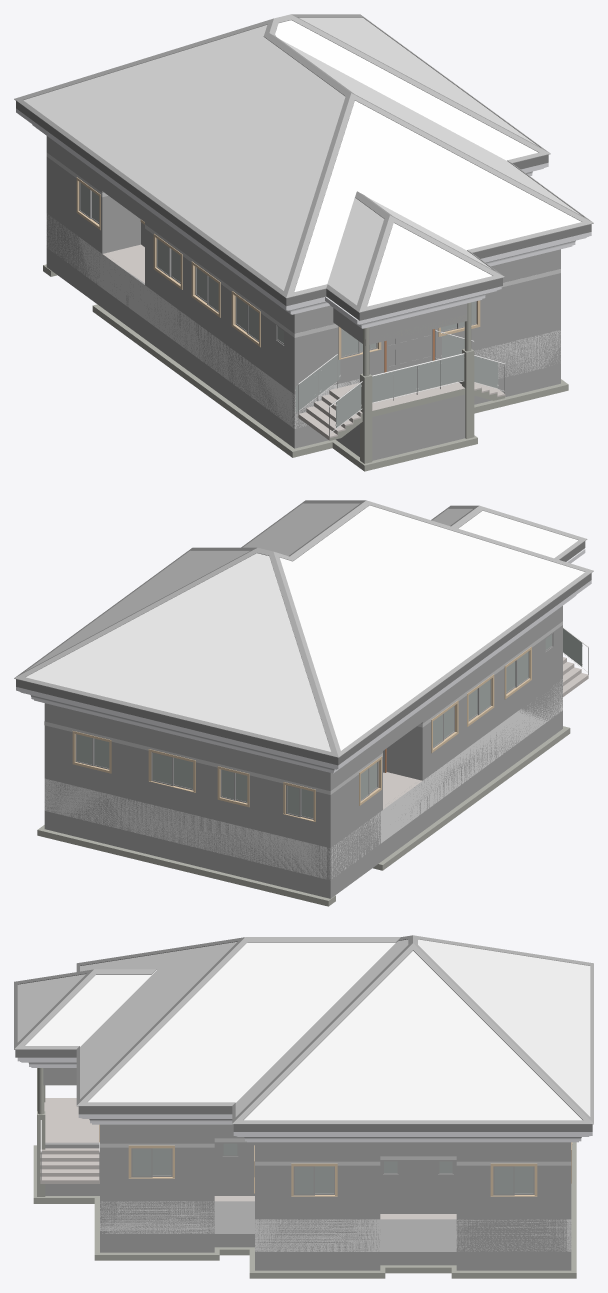
3 renders of one model, top to bottom at view 1: azimuth 30°, elevation 25°; view 2: azimuth 150°, elevation 25°; view 3: azimuth 270°, elevation 25°, orthographic. The views are drawn at different scales.
Parts seen in each view (by area): view 1: Material20, Material2 (×5), Material22, Material8 (×5), Material21, Material5 (×7), Material9 (×6), Material19, Material15, Material12 (×3), Material16; view 2: Material20, Material8 (×4), Material21, Material2 (×2), Material22, Material19, Material9 (×3), Material5 (×6), Material15, Material12 (×2), Material18; view 3: Material20, Material8 (×8), Material22, Material21, Material15, Material9 (×7), Material12 (×3), Material19, Material5 (×3), Material2 (×2), Material18 (×3), Material7 (×2).
Boxes of the visible parts, x1=… form: Material20: x1=23, y1=17, x2=581, y2=306; Material2 (×5): x1=145, y1=208, x2=560, y2=460; Material22: x1=14, y1=14, x2=593, y2=312; Material8 (×5): x1=46, y1=136, x2=467, y2=344; Material21: x1=46, y1=214, x2=560, y2=428; Material5 (×7): x1=157, y1=239, x2=498, y2=427; Material9 (×6): x1=142, y1=341, x2=568, y2=468; Material19: x1=16, y1=101, x2=591, y2=320; Material15: x1=16, y1=108, x2=591, y2=328; Material12 (×3): x1=103, y1=244, x2=464, y2=440; Material16: x1=386, y1=329, x2=432, y2=371; Material20: x1=26, y1=503, x2=584, y2=751; Material8 (×4): x1=44, y1=703, x2=422, y2=898; Material21: x1=44, y1=679, x2=562, y2=879; Material2 (×2): x1=386, y1=606, x2=562, y2=830; Material22: x1=14, y1=500, x2=593, y2=757; Material19: x1=16, y1=541, x2=591, y2=765; Material9 (×3): x1=37, y1=726, x2=570, y2=906; Material5 (×6): x1=76, y1=652, x2=528, y2=818; Material15: x1=16, y1=549, x2=591, y2=773; Material12 (×2): x1=383, y1=657, x2=588, y2=809; Material18: x1=48, y1=722, x2=330, y2=794; Material20: x1=17, y1=939, x2=590, y2=1120; Material8 (×8): x1=43, y1=1068, x2=571, y2=1270; Material22: x1=14, y1=935, x2=593, y2=1124; Material21: x1=100, y1=1201, x2=571, y2=1251; Material15: x1=17, y1=1057, x2=592, y2=1142; Material9 (×7): x1=37, y1=1111, x2=576, y2=1278; Material12 (×3): x1=40, y1=1100, x2=456, y2=1219; Material19: x1=15, y1=1050, x2=592, y2=1131; Material5 (×3): x1=132, y1=1148, x2=533, y2=1194; Material2 (×2): x1=45, y1=1124, x2=104, y2=1252; Material18 (×3): x1=100, y1=1143, x2=571, y2=1165; Material7 (×2): x1=128, y1=1145, x2=537, y2=1196.
Size of the model in its own units: 44.05 by 34.08 by 67.21.
